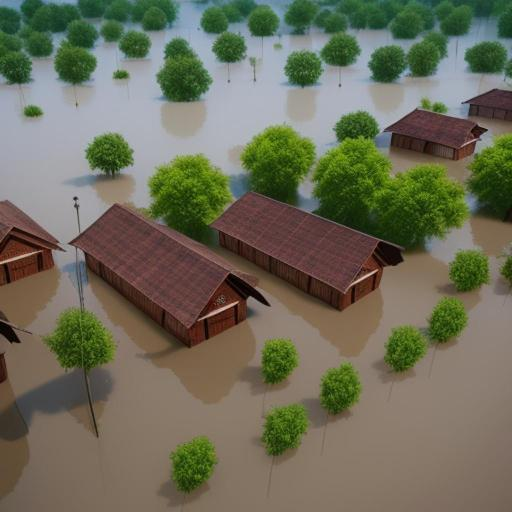flood: (0, 6, 512, 244), (212, 211, 512, 457), (209, 283, 512, 512), (0, 272, 254, 512), (0, 248, 78, 334), (388, 146, 474, 183), (470, 116, 512, 152)
house: (64, 199, 250, 359), (209, 186, 390, 308), (1, 196, 66, 301), (381, 108, 485, 168), (466, 85, 512, 127)
